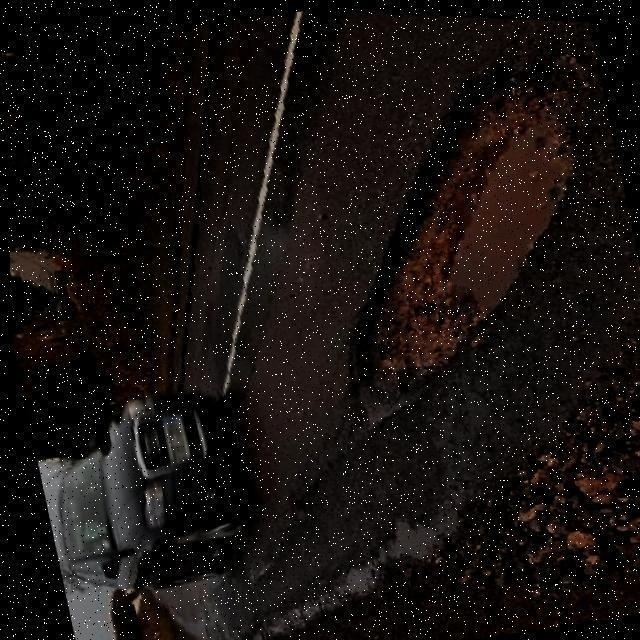pothole: (279, 42, 640, 436)
